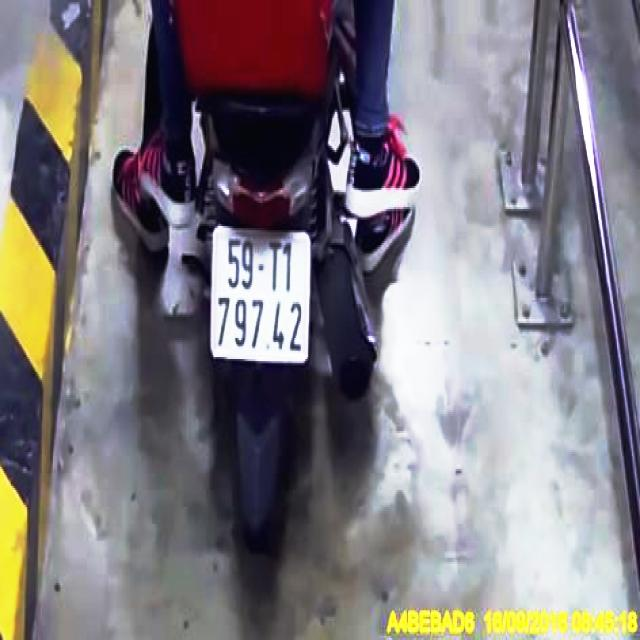license_plate: (214, 226, 310, 362)
